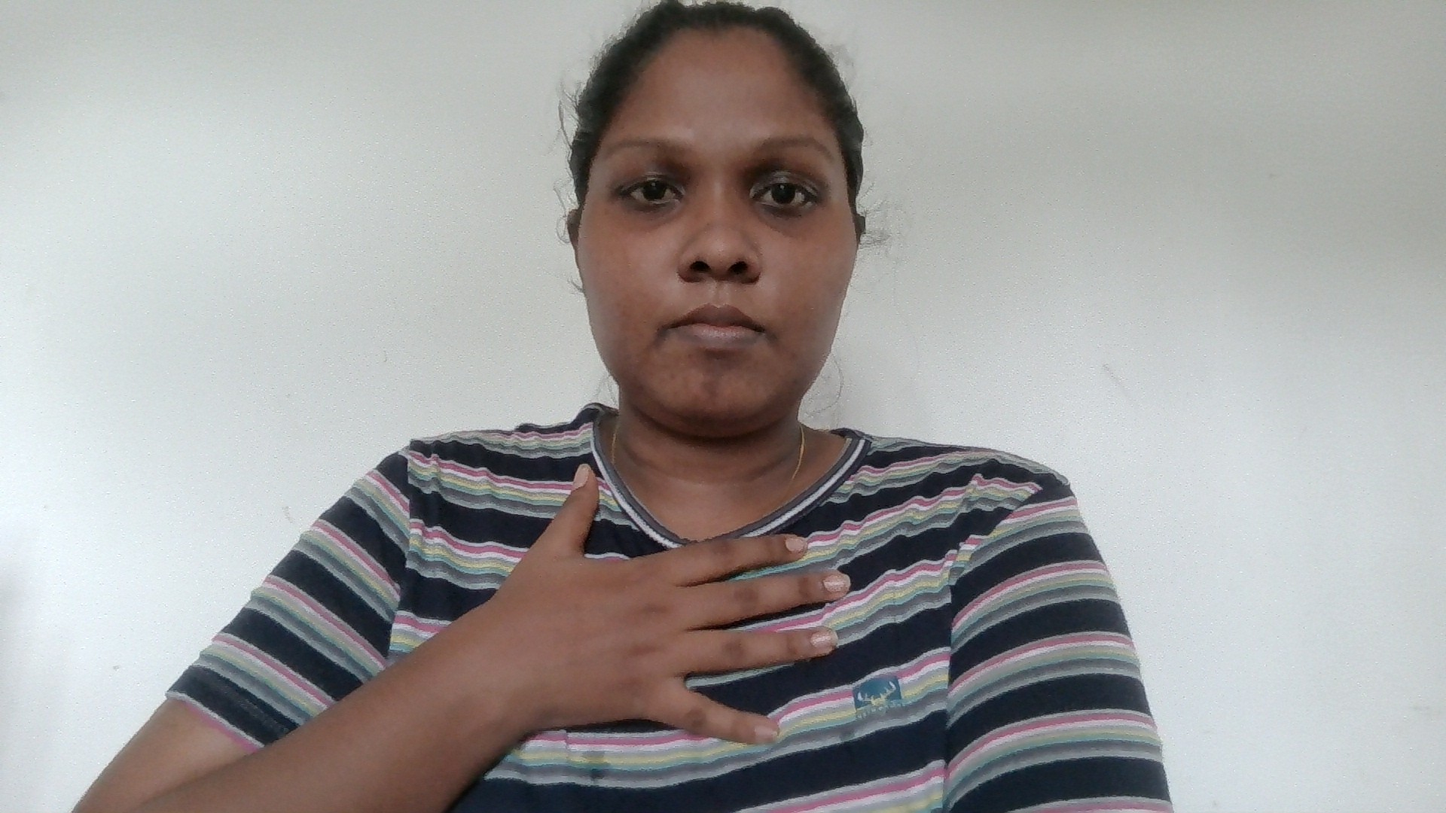Please: (486, 456, 852, 803)
